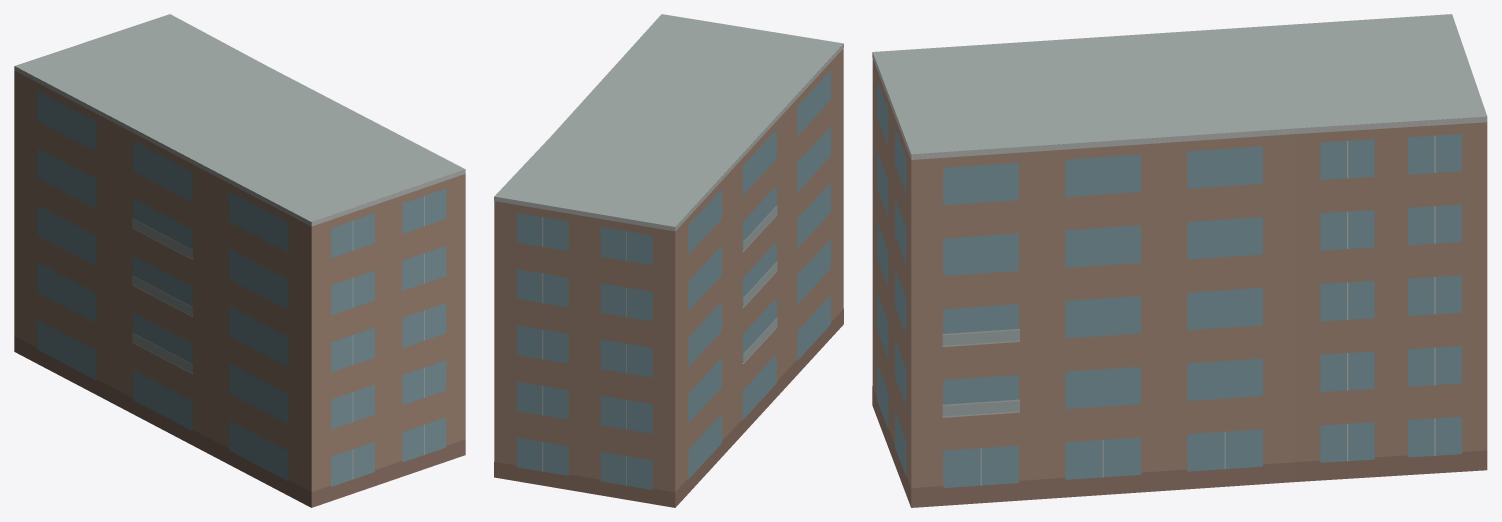
Rendered from survey-upis-32761541.glb.
3 views of the same model, side by side, from view 1: azimuth 30°, elevation 25°; view 2: azimuth 150°, elevation 25°; view 3: azimuth 270°, elevation 25° (orthographic). The views are drawn at different scales.
Visible parts, largest first — view 1: survey-upis-32761541.tmp; view 2: survey-upis-32761541.tmp; view 3: survey-upis-32761541.tmp.
Part boxes in pixels (x1,y1,x2,y2): survey-upis-32761541.tmp: (14,14,465,507); survey-upis-32761541.tmp: (494,14,843,507); survey-upis-32761541.tmp: (872,14,1487,507).
Size of the model in its own units: 13.04 by 15.3 by 24.13.
